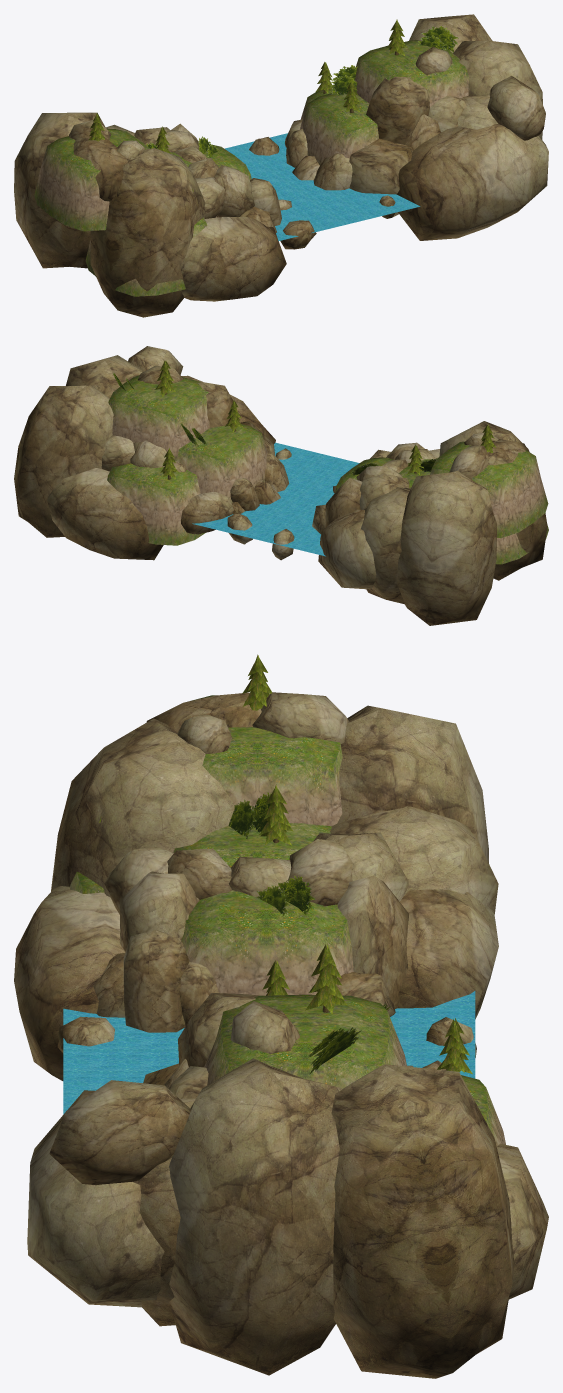
The model's file is BikeRoad011.FBX.
3 renders of one model, top to bottom at view 1: azimuth 30°, elevation 25°; view 2: azimuth 150°, elevation 25°; view 3: azimuth 270°, elevation 25°, orthographic. The views are drawn at different scales.
Parts seen in each view (by area): view 1: Rock (×26), Ground (×5), Wave, GrassPlane, Tree; view 2: Rock (×24), Ground (×6), Wave, Tree; view 3: Rock (×29), Ground (×5), Wave, Tree (×4).
Part boxes in pixels (<box>): Rock (×26): <box>14,14,548,317</box>; Ground (×5): <box>34,40,468,296</box>; Wave: <box>225,133,420,241</box>; GrassPlane: <box>420,26,458,52</box>; Tree: <box>386,19,406,55</box>; Rock (×24): <box>14,346,547,625</box>; Ground (×6): <box>107,375,548,564</box>; Wave: <box>192,442,359,556</box>; Tree: <box>155,360,175,396</box>; Rock (×29): <box>14,692,548,1378</box>; Ground (×5): <box>173,695,505,1146</box>; Wave: <box>63,991,475,1114</box>; Tree (×4): <box>242,654,472,1074</box>.
Size of the model in its own units: 10447 by 3803 by 5195.
